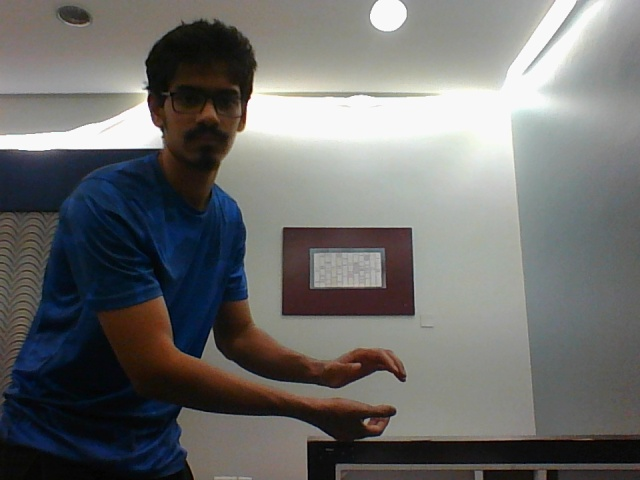charge: (315, 338, 407, 439)
